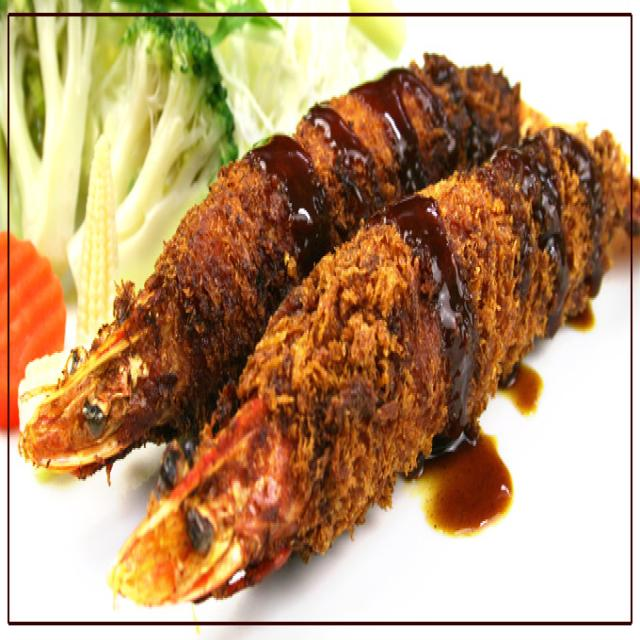炸货点心: (20, 53, 625, 602)
熟制海鲜: (20, 53, 625, 602)
